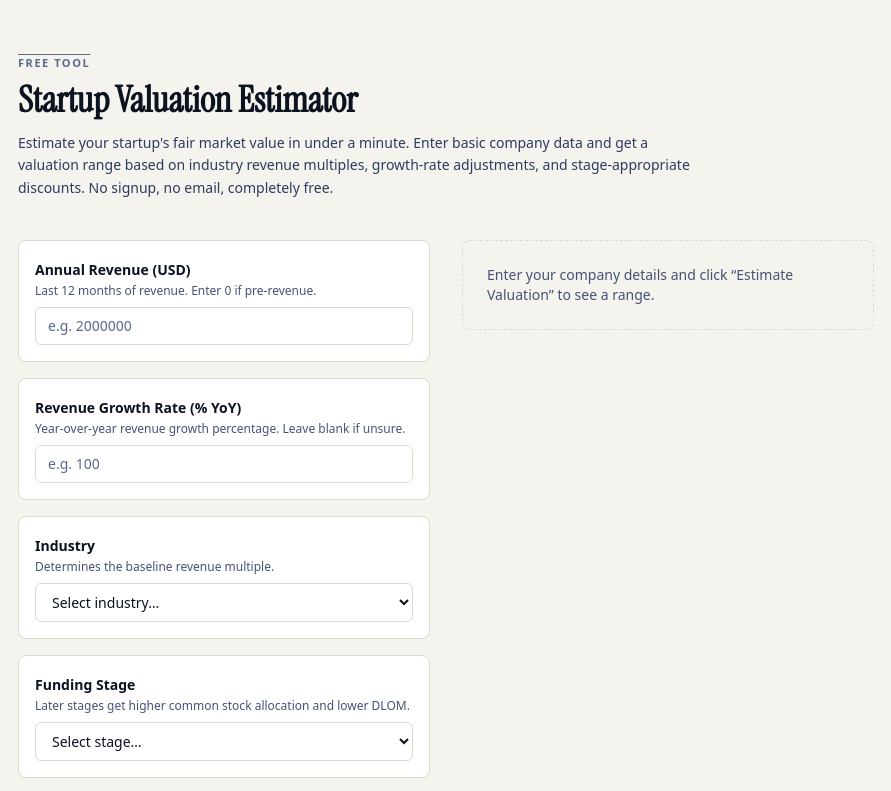
Test case: ValuationEstimatorPage › shows valuation results after clicking estimate
Type "2000000" into the number field labelled "Annual Revenue (USD)" at coordinates (224, 326), box left=35, top=307, right=413, bottom=345
Type "100" into the number field labelled "Revenue Growth Rate (% YoY)" at coordinates (224, 464), box left=35, top=445, right=413, bottom=483
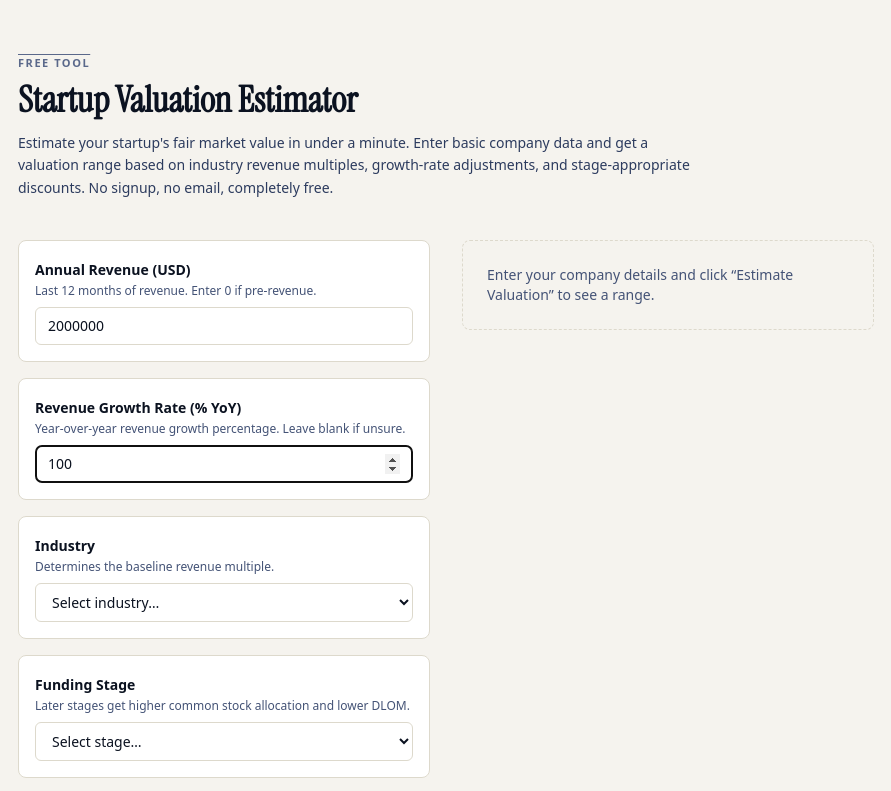
Select "SaaS / Cloud Software" in the dropdown labelled "Industry" at coordinates (224, 602), box left=35, top=583, right=413, bottom=622
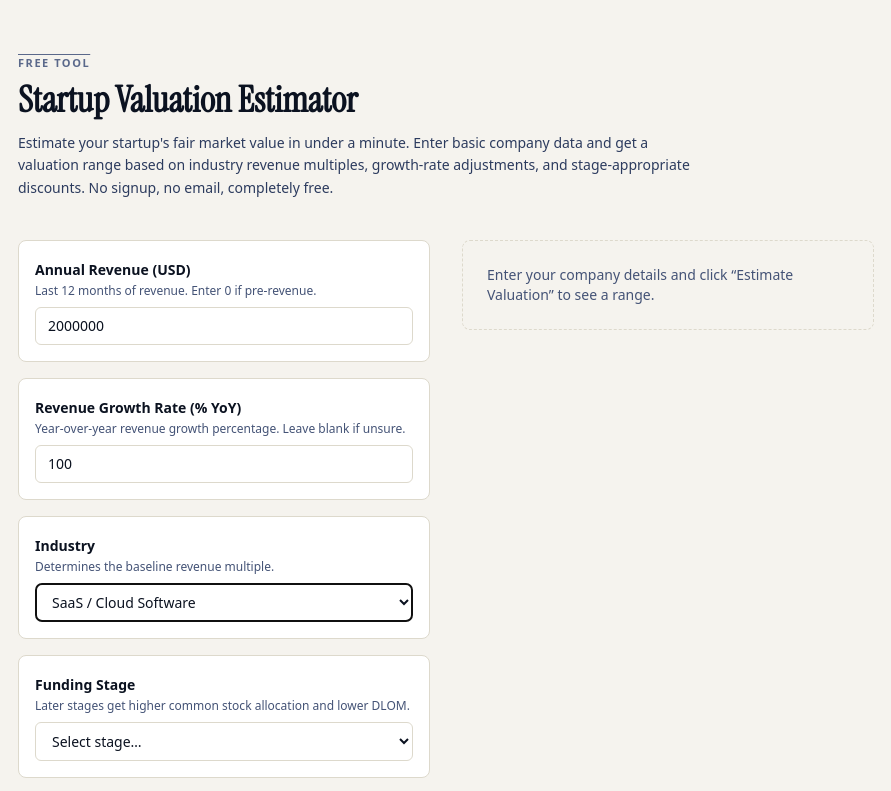
Select "Series A" in the dropdown labelled "Funding Stage" at coordinates (224, 741), box left=35, top=722, right=413, bottom=761
(page scrolled)
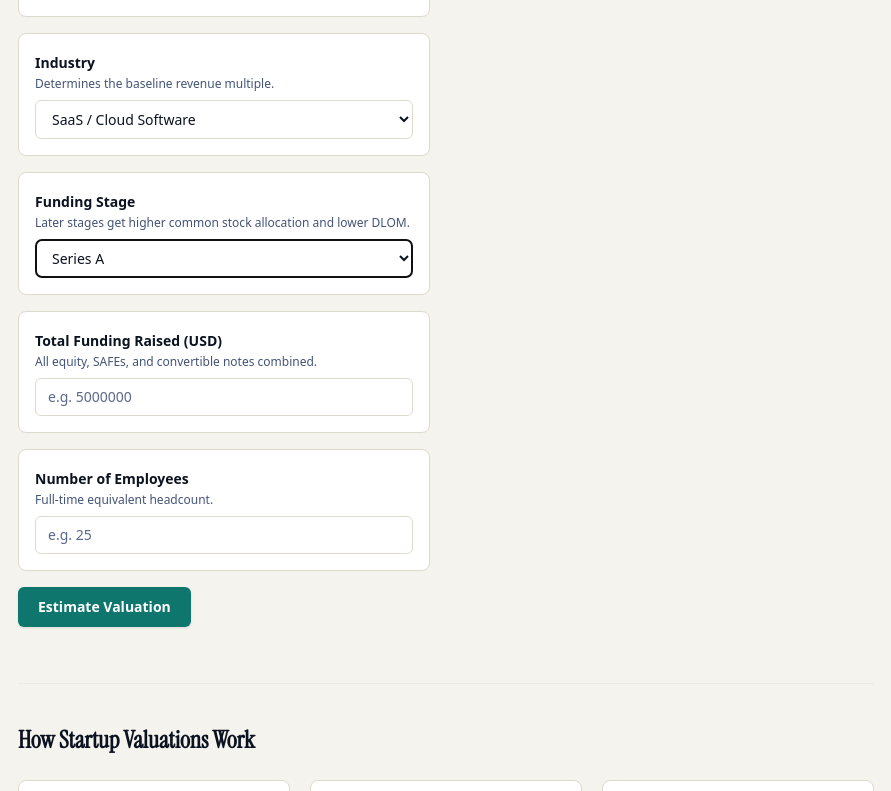
Type "5000000" into the number field labelled "Total Funding Raised (USD)" at coordinates (224, 397), box left=35, top=378, right=413, bottom=416
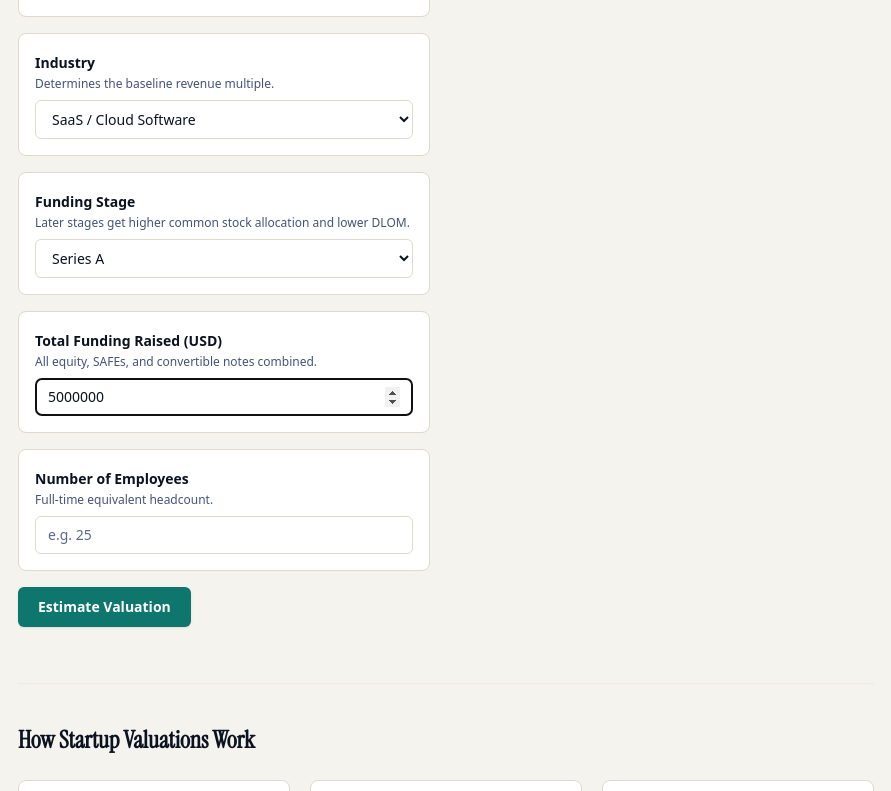
Type "25" into the number field labelled "Number of Employees" at coordinates (224, 535), box left=35, top=516, right=413, bottom=554
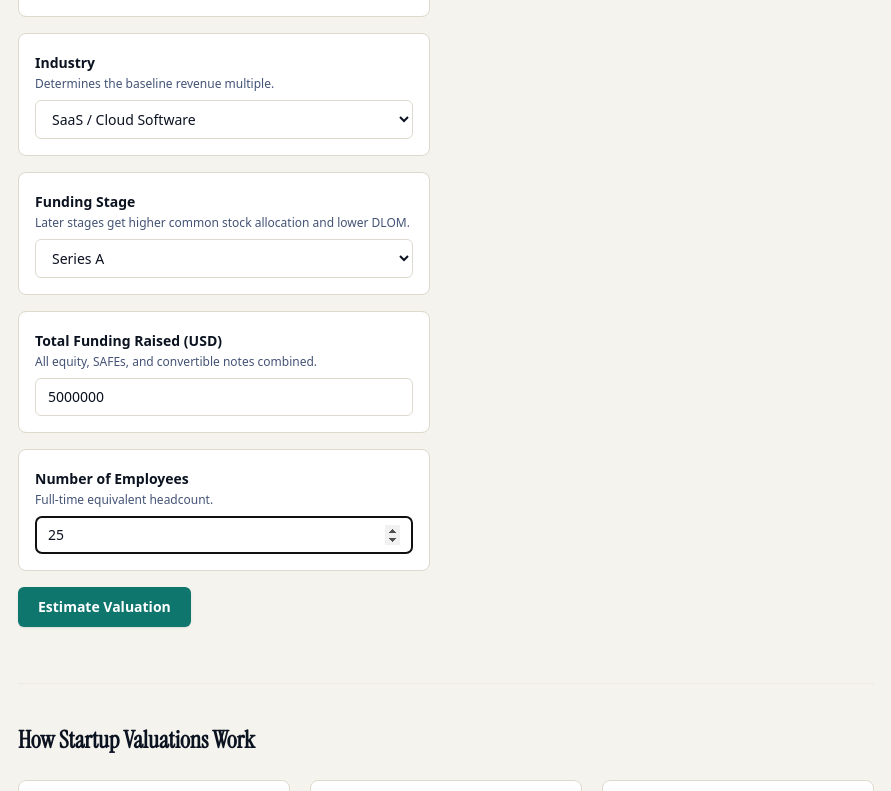
Click the button with test id "estimate-button" at coordinates (104, 607), box left=18, top=587, right=191, bottom=627
(page scrolled)
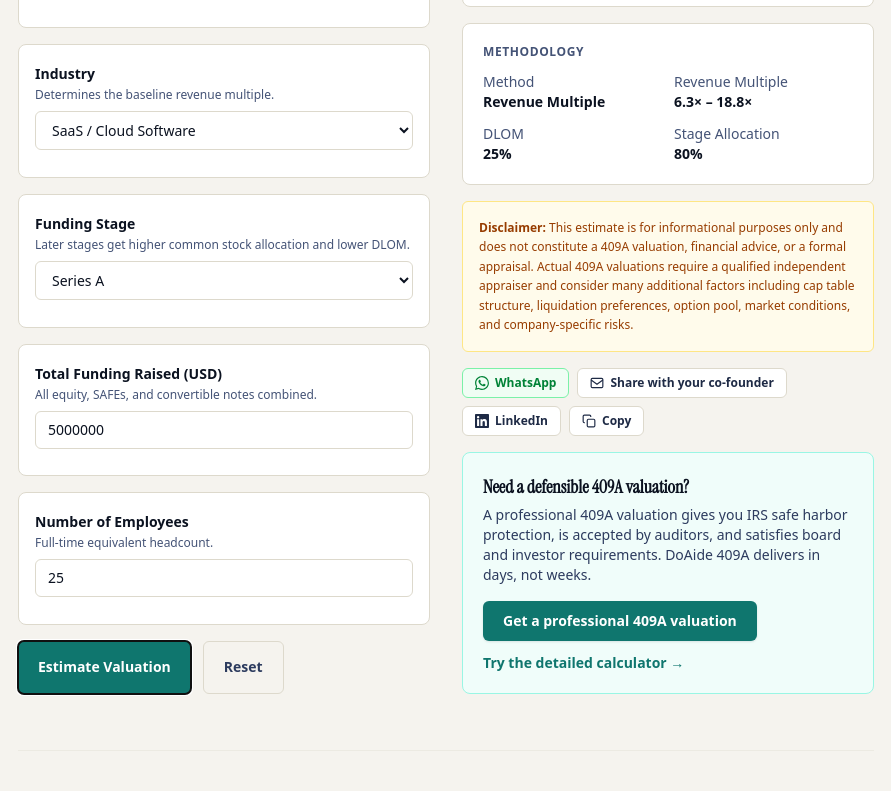
Check: the text with test id "method" reads "Revenue Multiple", box left=483, top=92, right=605, bottom=111
Check: the text with test id "dlom" reads "25%", box left=483, top=144, right=512, bottom=163
